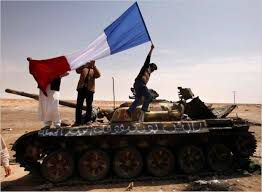French Flag: (22, 2, 152, 99)
